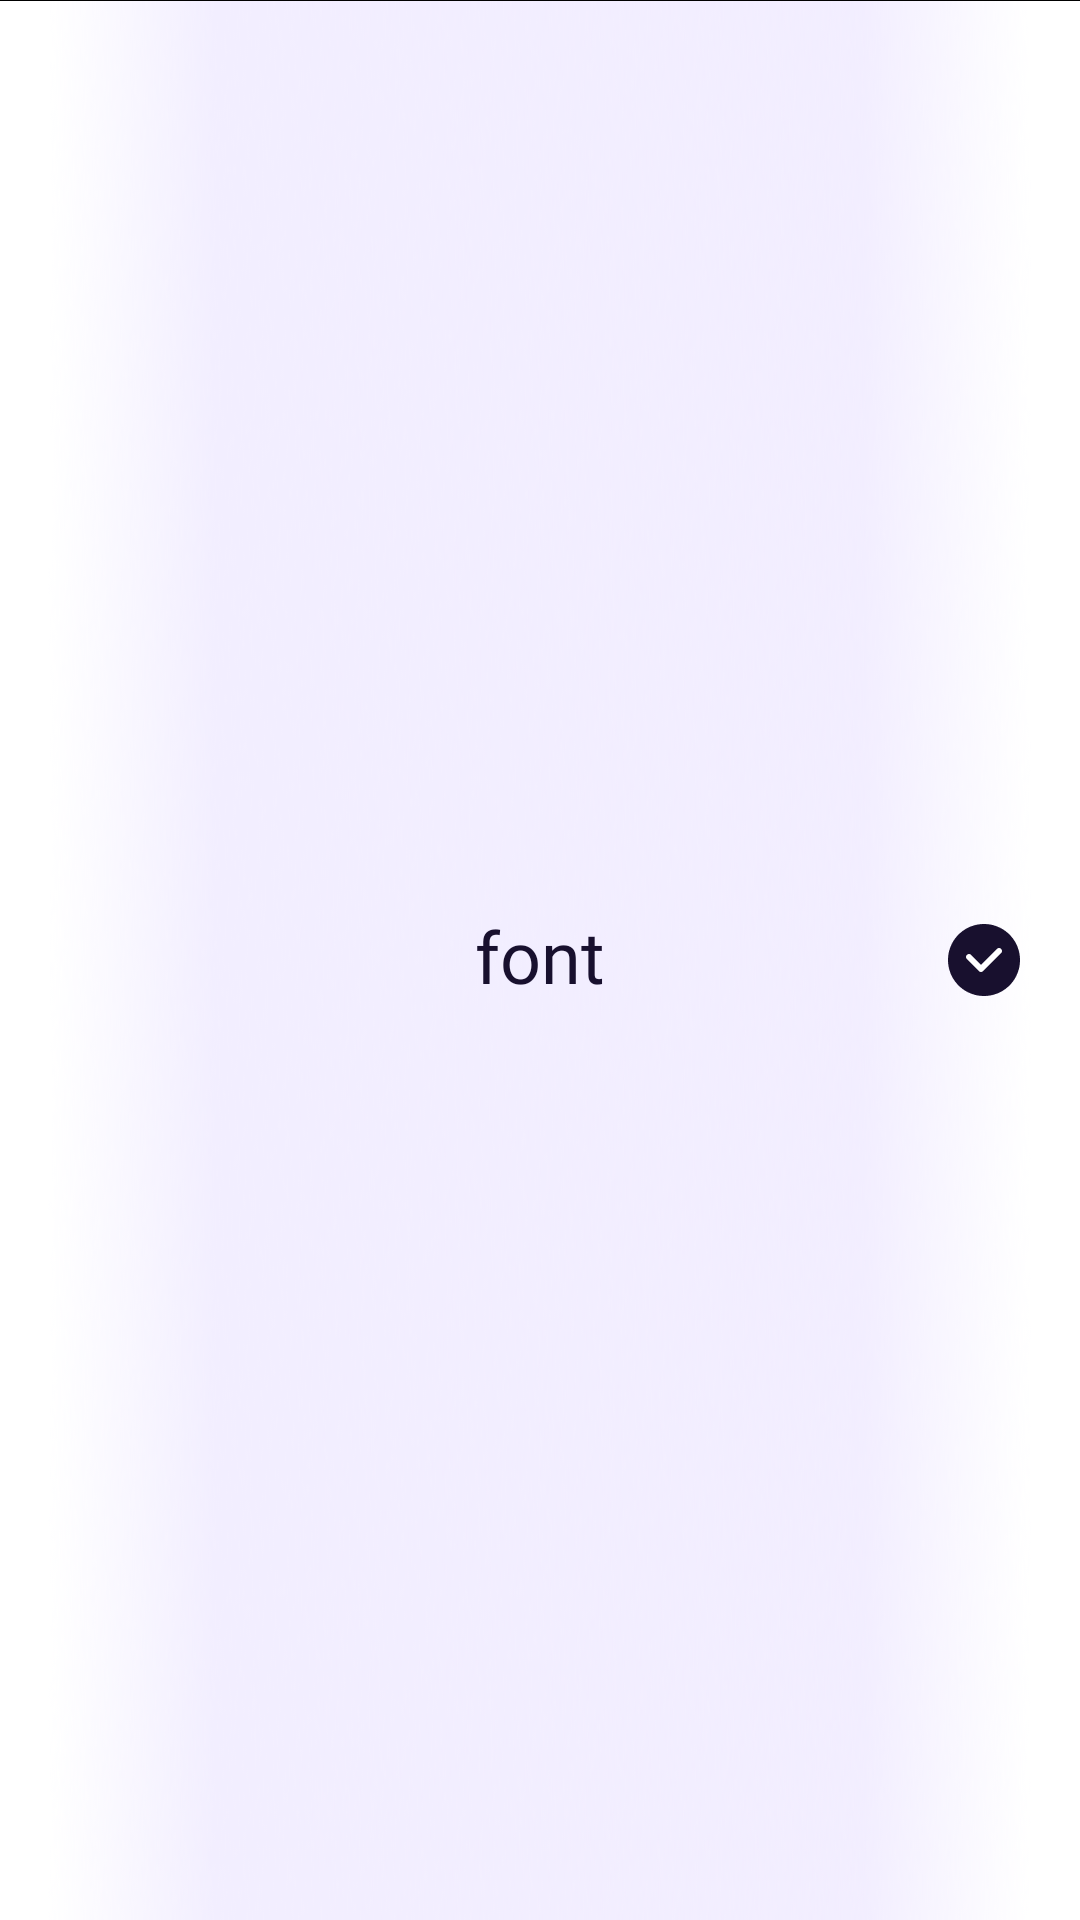

Named icons in this screenshot (1080w x 1920h) and their bounding boxes, (x1, y1, x2, y2):
checked: (948, 924, 1020, 996)
